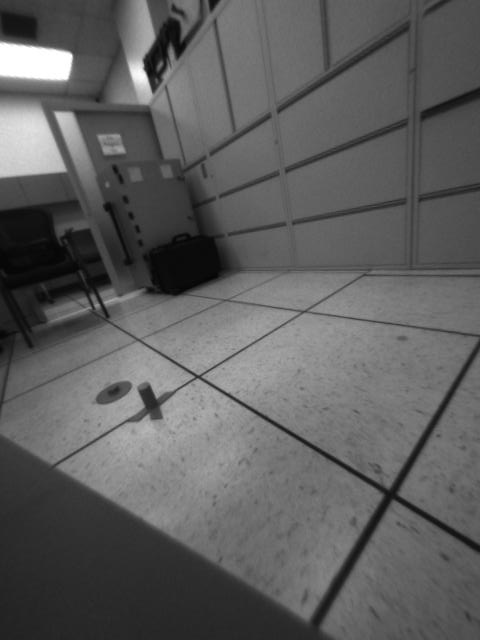X: (127, 380, 175, 423)
